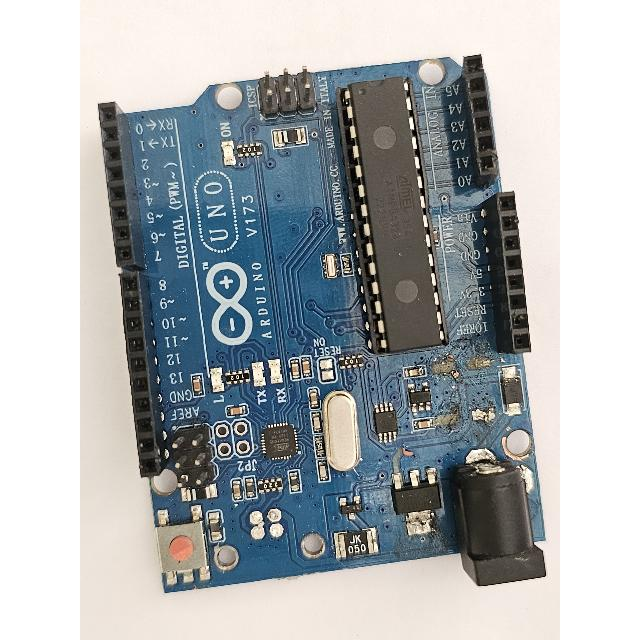missing_capacitors: (426, 347, 503, 434)
missing_usb: (221, 491, 332, 583)
